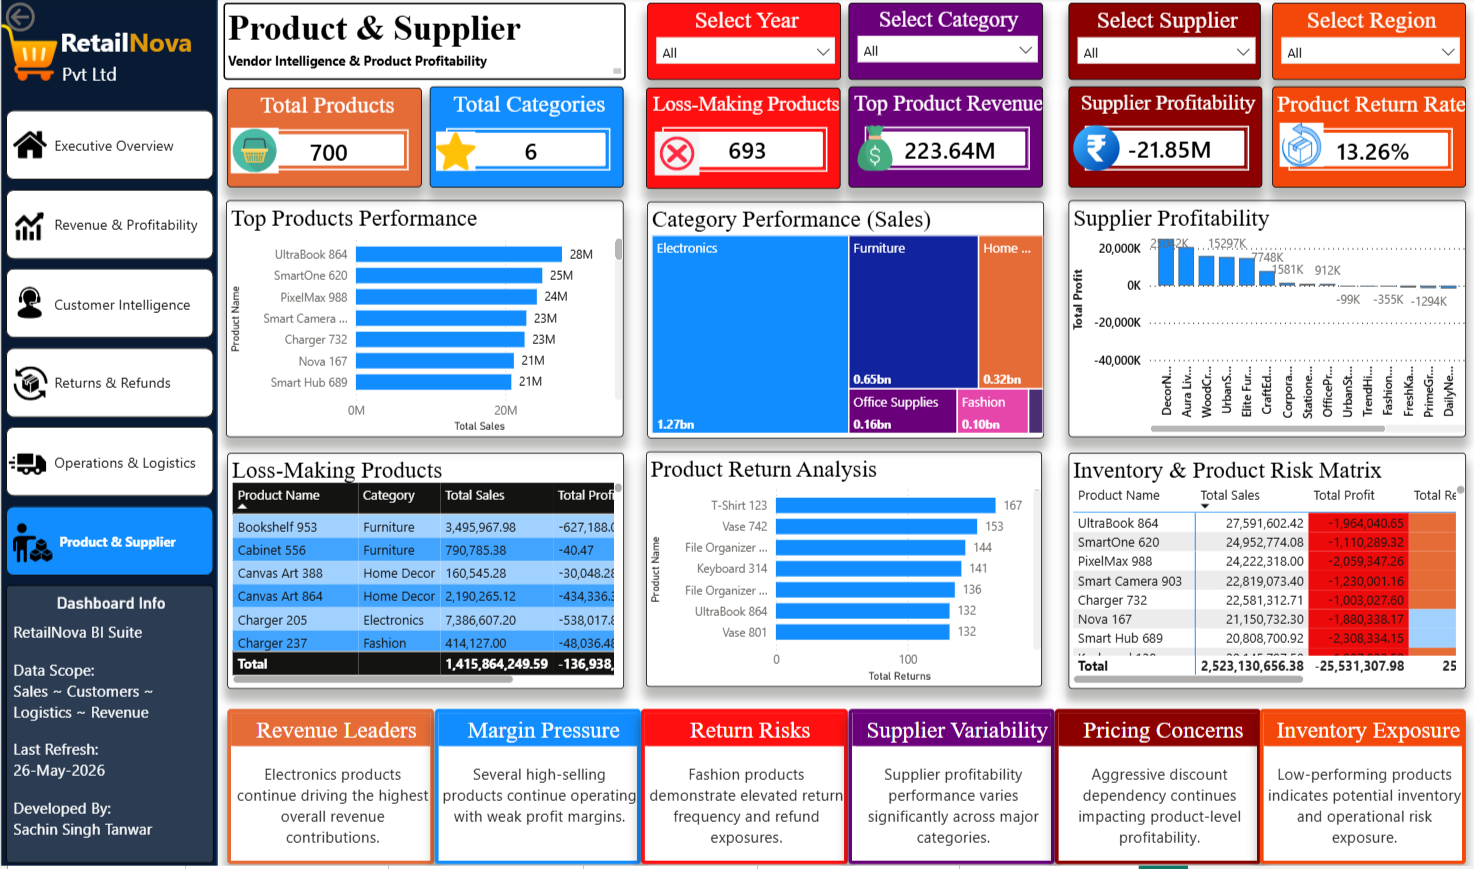

What the dashboard file says about the page in this screenshot:
{"tool":"powerbi","page":{"name":"Product & Supplier","canvas":[1530,900],"ordinal":5},"visuals":[{"type":"cardVisual","title":"Total Products","fields":{"Data":["Count(master_analytics_dataset.Product_ID)"]},"box":[234.7,93.4,202,103],"z":0},{"type":"group","id":"g1","title":"Group 2","box":[0,0,224.5,900.5],"z":1000},{"type":"textbox","title":"Product & Supplier","box":[230,5,417,79.6],"z":2000},{"type":"pageNavigator","box":[5.6,116.5,215.4,482.3],"z":2500,"group":"g2"},{"type":"textbox","title":"Revenue Leaders","box":[234.9,736.4,214.8,160.5],"z":3000},{"type":"clusteredBarChart","title":"Top Products Performance","fields":{"Category":["master_analytics_dataset.Product_Name"],"Y":["Sum(master_analytics_dataset.Sales)"]},"box":[233.3,210.2,412.2,245.9],"z":4000},{"type":"image","box":[11.9,134.5,36.6,35.4],"z":4500,"group":"g2"},{"type":"textbox","title":"Margin Pressure","box":[449.7,736.4,213.4,160.5],"z":5000},{"type":"tableEx","title":"Loss-Making Products","fields":{"Values":["master_analytics_dataset.Product_Name","master_analytics_dataset.Category","Sum(master_analytics_dataset.Sales)","master_analytics_dataset.Profit","Avg(master_analytics_dataset.Discount)"]},"box":[234.7,471.3,410.8,244.6],"z":6000},{"type":"image","box":[0,22,58.1,70],"z":6250,"group":"g2"},{"type":"shape","box":[0,0,224.5,900.5],"z":6500,"group":"g1"},{"type":"textbox","title":"Return Risks","box":[663.2,736.4,214.8,160.5],"z":7000},{"type":"clusteredColumnChart","title":"Supplier Profitability","fields":{"Category":["master_analytics_dataset.Supplier"],"Y":["Sum(master_analytics_dataset.Profit)"]},"box":[1105.7,210.2,412.2,245.9],"z":8000},{"type":"textbox","title":"Retail","box":[58.1,22,166.4,60.9],"z":8500,"group":"g2"},{"type":"textbox","title":"Supplier Variability","box":[877.9,736.4,213.4,160.5],"z":9000},{"type":"clusteredBarChart","title":"Product Return Analysis","fields":{"Category":["master_analytics_dataset.Product_Name"],"Y":["CountNonNull(master_analytics_dataset.Return_ID)"]},"box":[668.8,470.8,410.6,244.4],"z":10000},{"type":"textbox","box":[58.4,60.9,93.8,42.8],"z":10500,"group":"g2"},{"type":"textbox","title":"Pricing Concerns","box":[1091.4,736.4,213.4,160.7],"z":11000},{"type":"slicer","title":"Select Year","fields":{"Values":["master_analytics_dataset.Order_Date.Variation.Date Hierarchy.Year"]},"box":[670.2,5.5,200.6,79.7],"z":12000},{"type":"image","box":[13.9,221.2,30,30],"z":12500,"group":"g2"},{"type":"image","box":[11.9,298.2,36,36.3],"z":13000,"group":"g2"},{"type":"textbox","title":"Inventory Exposure","box":[1304.8,736.4,213.4,160.5],"z":13000},{"type":"pivotTable","title":"Inventory & Product Risk Matrix","fields":{"Rows":["master_analytics_dataset.Product_Name"],"Values":["Sum(master_analytics_dataset.Sales)","Sum(master_analytics_dataset.Profit)","Sum(master_analytics_dataset.Refund_Amount)","Avg(master_analytics_dataset.Discount)"]},"box":[1105.7,471.3,412.2,244.6],"z":14000},{"type":"cardVisual","title":"Total Categories","fields":{"Data":["Count(master_analytics_dataset.Category)"]},"box":[444.9,92.1,200.6,104.4],"z":15000},{"type":"image","box":[12.9,382.2,35.8,35.2],"z":15000,"group":"g2"},{"type":"treemap","title":"Category Performance (Sales)","fields":{"Group":["master_analytics_dataset.Category"],"Values":["Sum(master_analytics_dataset.Sales)"]},"box":[669.7,210.7,411.5,245.6],"z":16000},{"type":"slicer","title":"Select Category","fields":{"Values":["master_analytics_dataset.Category"]},"box":[877.7,5.5,202,79.7],"z":17000},{"type":"image","box":[8.3,464,38.9,38.9],"z":17000,"group":"g2"},{"type":"cardVisual","title":"Loss-Making Products","fields":{"Data":["Count(master_analytics_dataset.Product_ID)"]},"box":[668.8,93.4,202,104.4],"z":18000},{"type":"slicer","title":"Select Supplier","fields":{"Values":["master_analytics_dataset.Ship_Mode"]},"box":[1105.7,5.5,199.2,79.7],"z":19000},{"type":"image","box":[11.9,544.4,42.3,41.5],"z":19000,"group":"g2"},{"type":"slicer","title":"Select Region","fields":{"Values":["master_analytics_dataset.Region"]},"box":[1317.3,5.5,200.6,79.7],"z":20000},{"type":"textbox","title":"Dashboard Info","box":[5.6,608.5,215.4,287.7],"z":20000,"group":"g2"},{"type":"cardVisual","title":"Top Product Revenue","fields":{"Data":["Sum(master_analytics_dataset.Sales)"]},"box":[877.7,92.1,202,104.4],"z":21000},{"type":"group","id":"g2","title":"Group 1","box":[0,22,224.5,874.2],"z":21001,"group":"g1"},{"type":"cardVisual","title":"Supplier Profitability","fields":{"Data":["Sum(master_analytics_dataset.Profit)"]},"box":[1105.7,92.1,200.6,104.4],"z":22000},{"type":"cardVisual","title":"Product Return Rate","fields":{"Data":["master_analytics_dataset.Return Rate %"]},"box":[1317.3,92.1,200.6,104.4],"z":23000},{"type":"image","box":[440,135,58,48.6],"z":24000},{"type":"image","box":[670.8,135,55.3,54],"z":25000},{"type":"image","box":[871.9,128.2,63.4,55.3],"z":26000},{"type":"image","box":[1091.9,128.2,82.3,55.3],"z":27000},{"type":"image","box":[1311.9,125.5,67.5,54],"z":28000},{"type":"image","box":[229.4,130.9,63.4,55.3],"z":29000},{"type":"actionButton","box":[0,0,100,40],"z":30000}]}

Visuals, with their boxes in screenshot pixels (x1, y1, x2, y2), scaled from the page's 1530x900 canvas onto the 1474x869 screenshot:
"Total Products" cardVisual: {"x1": 226, "y1": 90, "x2": 421, "y2": 190}
"Group 2" group: {"x1": 0, "y1": 0, "x2": 216, "y2": 868}
"Product & Supplier" textbox: {"x1": 222, "y1": 5, "x2": 623, "y2": 82}
pageNavigator: {"x1": 5, "y1": 112, "x2": 213, "y2": 578}
"Revenue Leaders" textbox: {"x1": 226, "y1": 711, "x2": 433, "y2": 866}
"Top Products Performance" clusteredBarChart: {"x1": 225, "y1": 203, "x2": 622, "y2": 440}
image: {"x1": 11, "y1": 130, "x2": 47, "y2": 164}
"Margin Pressure" textbox: {"x1": 433, "y1": 711, "x2": 639, "y2": 866}
"Loss-Making Products" tableEx: {"x1": 226, "y1": 455, "x2": 622, "y2": 691}
image: {"x1": 0, "y1": 21, "x2": 56, "y2": 89}
shape: {"x1": 0, "y1": 0, "x2": 216, "y2": 868}
"Return Risks" textbox: {"x1": 639, "y1": 711, "x2": 846, "y2": 866}
"Supplier Profitability" clusteredColumnChart: {"x1": 1065, "y1": 203, "x2": 1462, "y2": 440}
"Retail" textbox: {"x1": 56, "y1": 21, "x2": 216, "y2": 80}
"Supplier Variability" textbox: {"x1": 846, "y1": 711, "x2": 1051, "y2": 866}
"Product Return Analysis" clusteredBarChart: {"x1": 644, "y1": 455, "x2": 1040, "y2": 691}
textbox: {"x1": 56, "y1": 59, "x2": 147, "y2": 100}
"Pricing Concerns" textbox: {"x1": 1051, "y1": 711, "x2": 1257, "y2": 866}
"Select Year" slicer: {"x1": 646, "y1": 5, "x2": 839, "y2": 82}
image: {"x1": 13, "y1": 214, "x2": 42, "y2": 243}
image: {"x1": 11, "y1": 288, "x2": 46, "y2": 323}
"Inventory Exposure" textbox: {"x1": 1257, "y1": 711, "x2": 1463, "y2": 866}
"Inventory & Product Risk Matrix" pivotTable: {"x1": 1065, "y1": 455, "x2": 1462, "y2": 691}
"Total Categories" cardVisual: {"x1": 429, "y1": 89, "x2": 622, "y2": 190}
image: {"x1": 12, "y1": 369, "x2": 47, "y2": 403}
"Category Performance (Sales)" treemap: {"x1": 645, "y1": 203, "x2": 1042, "y2": 441}
"Select Category" slicer: {"x1": 846, "y1": 5, "x2": 1040, "y2": 82}
image: {"x1": 8, "y1": 448, "x2": 45, "y2": 486}
"Loss-Making Products" cardVisual: {"x1": 644, "y1": 90, "x2": 839, "y2": 191}
"Select Supplier" slicer: {"x1": 1065, "y1": 5, "x2": 1257, "y2": 82}
image: {"x1": 11, "y1": 526, "x2": 52, "y2": 566}
"Select Region" slicer: {"x1": 1269, "y1": 5, "x2": 1462, "y2": 82}
"Dashboard Info" textbox: {"x1": 5, "y1": 588, "x2": 213, "y2": 865}
"Top Product Revenue" cardVisual: {"x1": 846, "y1": 89, "x2": 1040, "y2": 190}
"Group 1" group: {"x1": 0, "y1": 21, "x2": 216, "y2": 865}
"Supplier Profitability" cardVisual: {"x1": 1065, "y1": 89, "x2": 1258, "y2": 190}
"Product Return Rate" cardVisual: {"x1": 1269, "y1": 89, "x2": 1462, "y2": 190}
image: {"x1": 424, "y1": 130, "x2": 480, "y2": 177}
image: {"x1": 646, "y1": 130, "x2": 700, "y2": 182}
image: {"x1": 840, "y1": 124, "x2": 901, "y2": 177}
image: {"x1": 1052, "y1": 124, "x2": 1131, "y2": 177}
image: {"x1": 1264, "y1": 121, "x2": 1329, "y2": 173}
image: {"x1": 221, "y1": 126, "x2": 282, "y2": 180}
actionButton: {"x1": 0, "y1": 0, "x2": 96, "y2": 39}
